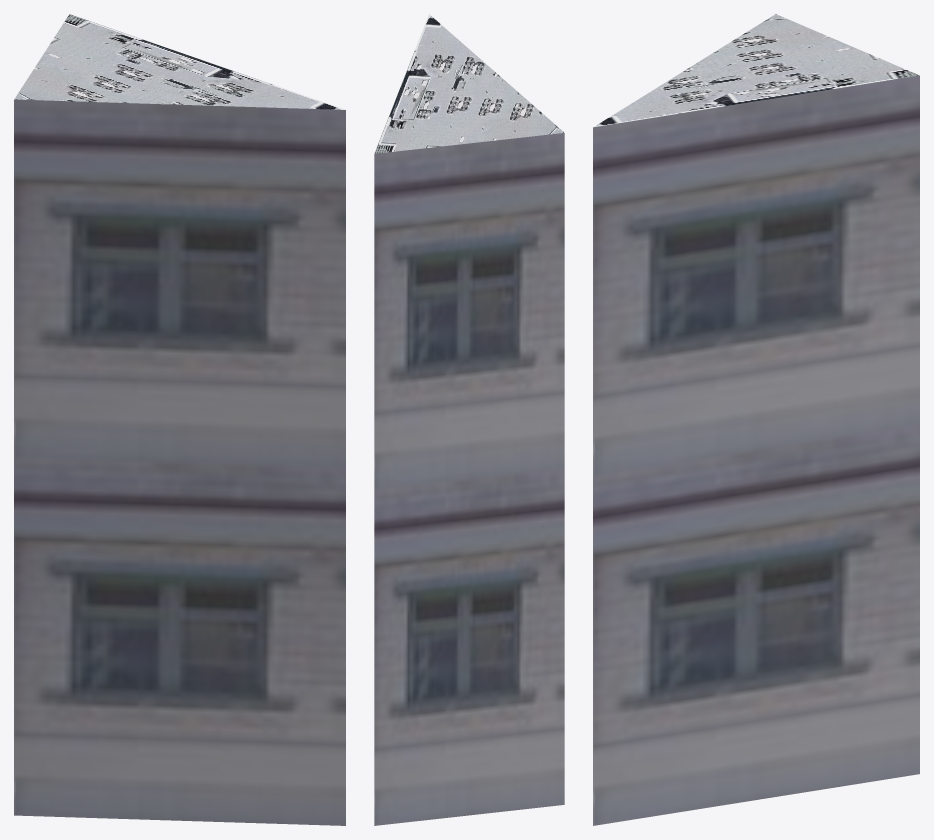
The model's file is ResTex__1574.fbx.
The picture shows the model from 3 angles, left to right: view 1: azimuth 30°, elevation 25°; view 2: azimuth 150°, elevation 25°; view 3: azimuth 270°, elevation 25°; orthographic projection. The views are drawn at different scales.
Visible parts, largest first — view 1: CityEngineMaterial_1_m, CityEngineMaterial_8_m; view 2: CityEngineMaterial_1_m, CityEngineMaterial_8_m; view 3: CityEngineMaterial_1_m, CityEngineMaterial_8_m.
Part boxes in pixels (bbox=[...]): CityEngineMaterial_1_m: bbox=[14, 99, 345, 825]; CityEngineMaterial_8_m: bbox=[14, 14, 344, 109]; CityEngineMaterial_1_m: bbox=[374, 133, 564, 825]; CityEngineMaterial_8_m: bbox=[374, 14, 564, 153]; CityEngineMaterial_1_m: bbox=[593, 75, 919, 825]; CityEngineMaterial_8_m: bbox=[593, 14, 919, 127].
Size of the model in its own units: 2.09 by 6 by 2.54.
2 materials, 2 textured.
